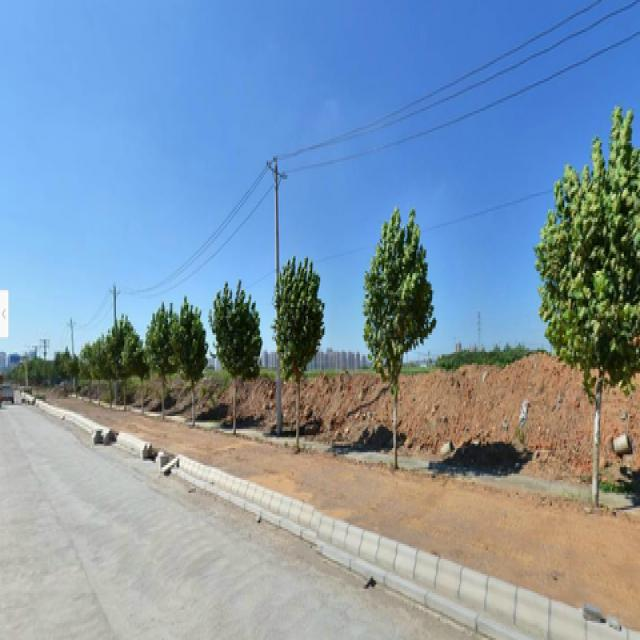meta: (558, 152, 638, 534), (373, 235, 432, 465), (203, 263, 256, 418), (284, 252, 328, 424), (167, 288, 205, 418), (125, 322, 151, 410)
